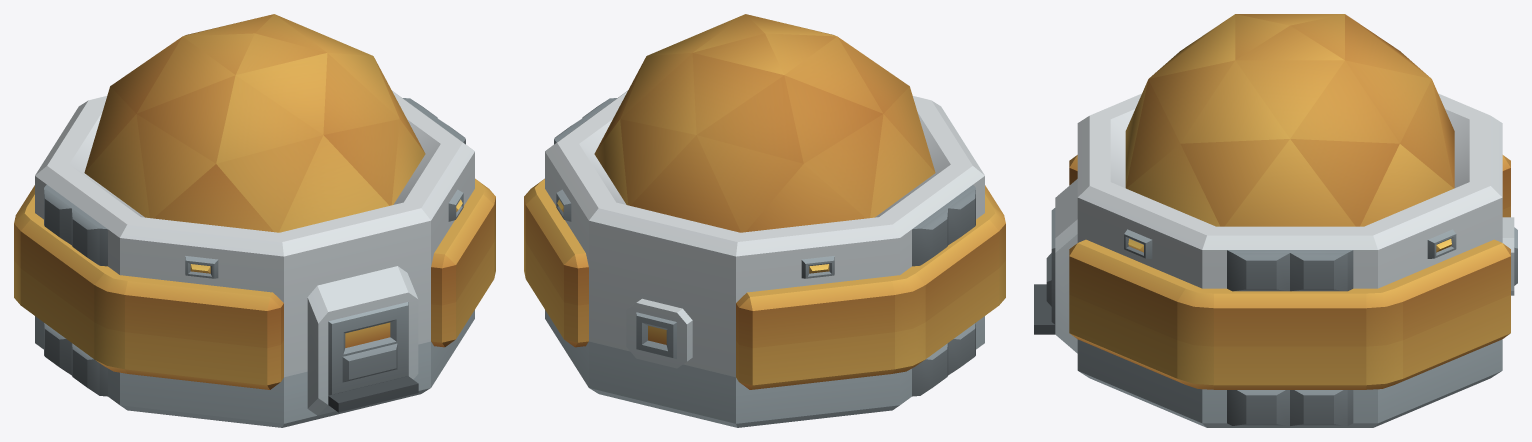
The model's file is ResearchLab.glb.
3 views of the same model, side by side, from view 1: azimuth 30°, elevation 25°; view 2: azimuth 150°, elevation 25°; view 3: azimuth 270°, elevation 25° (orthographic). The views are drawn at different scales.
Visible parts, largest first — view 1: basemodule_E_Cylinder.2717; view 2: basemodule_E_Cylinder.2717; view 3: basemodule_E_Cylinder.2717.
Part boxes in pixels (<box>): basemodule_E_Cylinder.2717: <box>14,14,495,427</box>; basemodule_E_Cylinder.2717: <box>524,14,1005,427</box>; basemodule_E_Cylinder.2717: <box>1034,14,1517,427</box>.
Size of the model in its own units: 2.22 by 1.65 by 2.28.
1 material, 1 textured.
